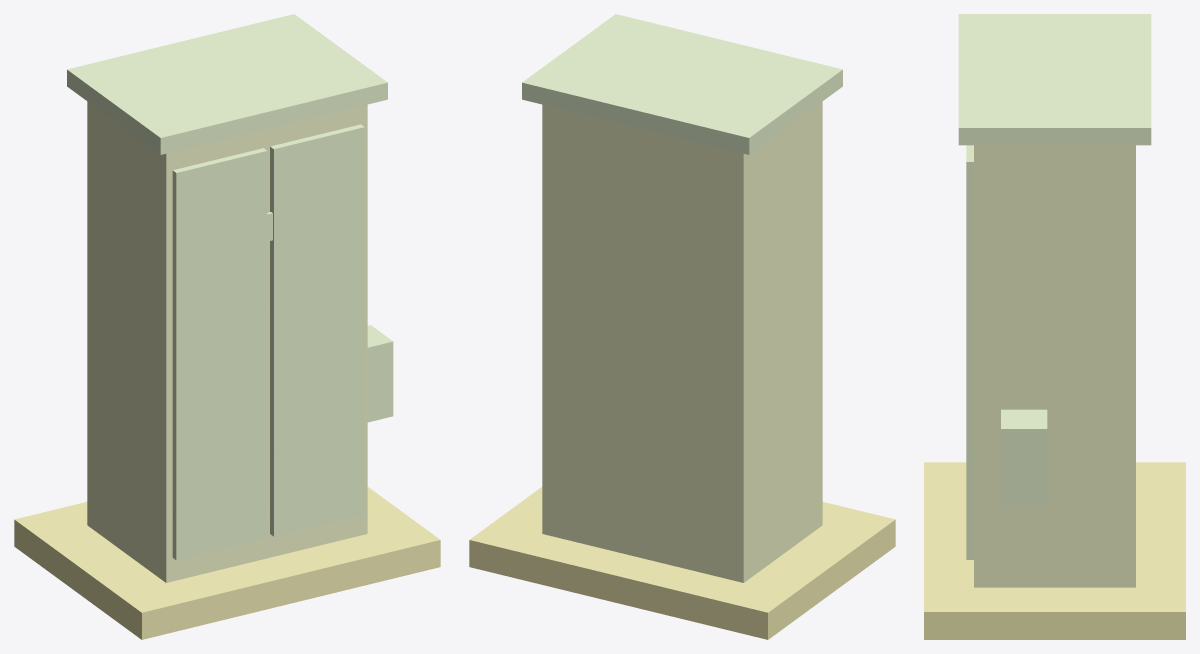
Rendered from furniture_signal_battery_backup_cabinet.glb.
3 views of the same model, side by side, from view 1: azimuth 30°, elevation 25°; view 2: azimuth 150°, elevation 25°; view 3: azimuth 270°, elevation 25° (orthographic). The views are drawn at different scales.
Parts seen in each view (by area): view 1: cabinet, door_left, door_right, roof_cap, pad, battery_box; view 2: cabinet, roof_cap, pad; view 3: cabinet, pad, roof_cap, battery_box, door_right.
Part boxes in pixels (x1=…): cabinet: x1=87, y1=101, x2=367, y2=582; door_left: x1=172, y1=148, x2=267, y2=560; door_right: x1=270, y1=124, x2=364, y2=536; roof_cap: x1=67, y1=14, x2=387, y2=154; pad: x1=14, y1=487, x2=440, y2=639; battery_box: x1=367, y1=325, x2=393, y2=422; cabinet: x1=542, y1=101, x2=822, y2=582; roof_cap: x1=522, y1=14, x2=842, y2=154; pad: x1=469, y1=487, x2=895, y2=639; cabinet: x1=974, y1=145, x2=1135, y2=587; pad: x1=924, y1=462, x2=1185, y2=639; roof_cap: x1=958, y1=14, x2=1151, y2=145; battery_box: x1=1001, y1=409, x2=1047, y2=505; door_right: x1=966, y1=145, x2=973, y2=559.
Bounding box in the file's own units: 0.92 × 1.41 × 0.68.
